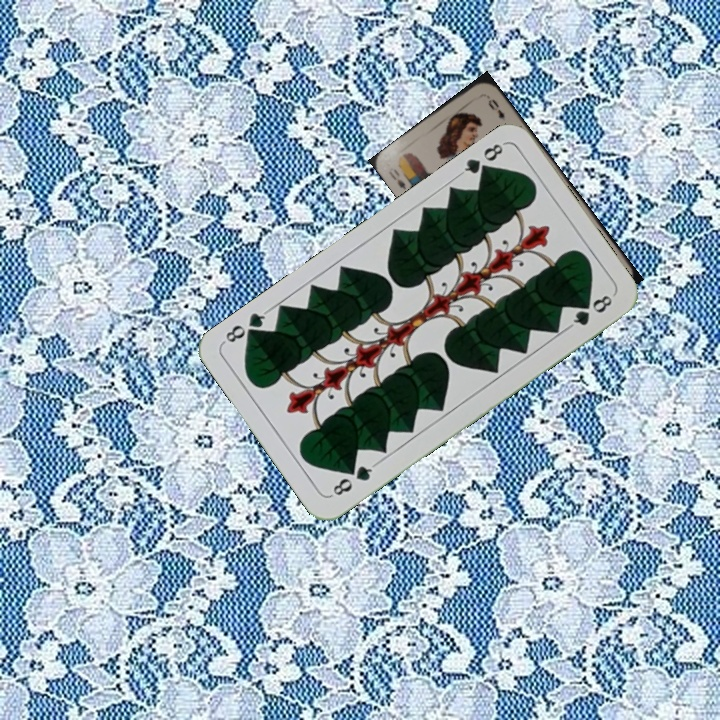EO: (384, 163, 409, 192)
G8: (455, 139, 507, 181), (326, 459, 378, 499)
